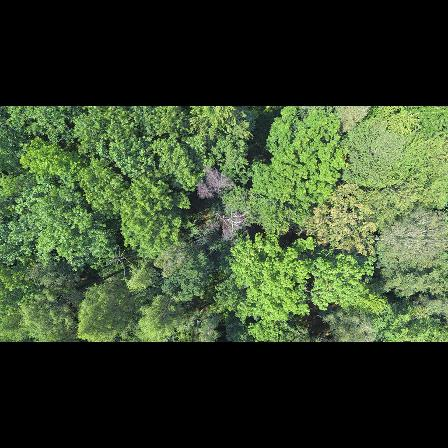Dead: (193, 210, 251, 242), (195, 172, 236, 203)
